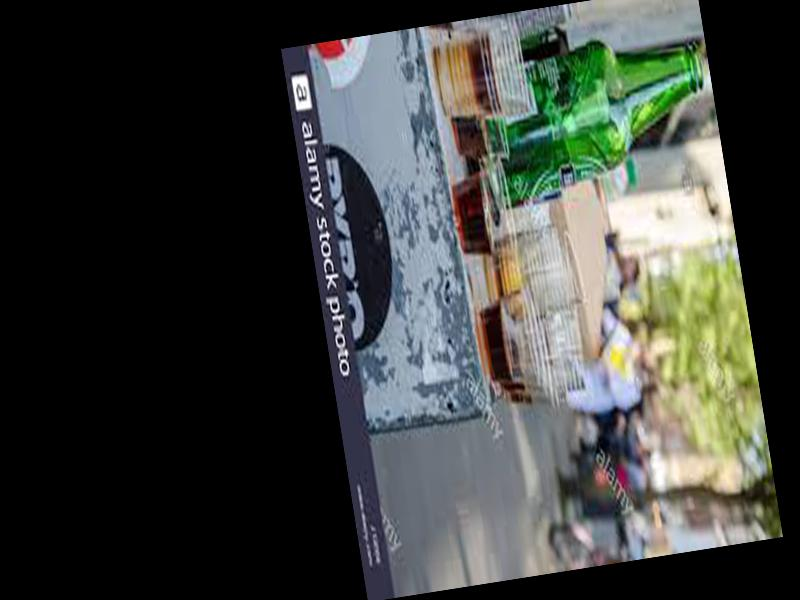Beer: (456, 22, 718, 216)
